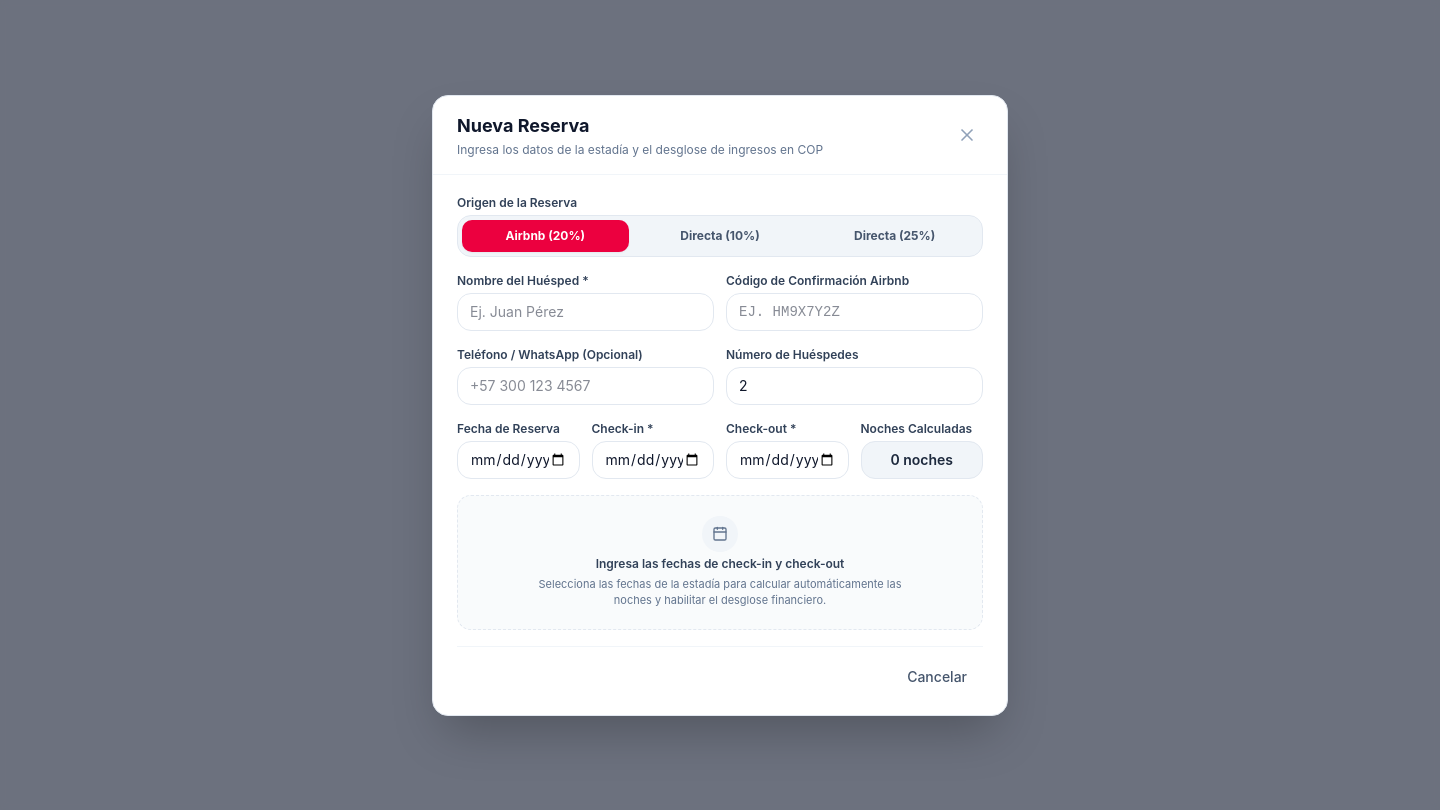
Test: BookingModal Component › switches to Direct 10% mode with 10% commission and $0 platform fee
Note: Fill dates to reveal breakdown
Type "2026-10-10" into the date field labelled "Check-in *" at x=653, y=460, box [592, 440, 714, 478]
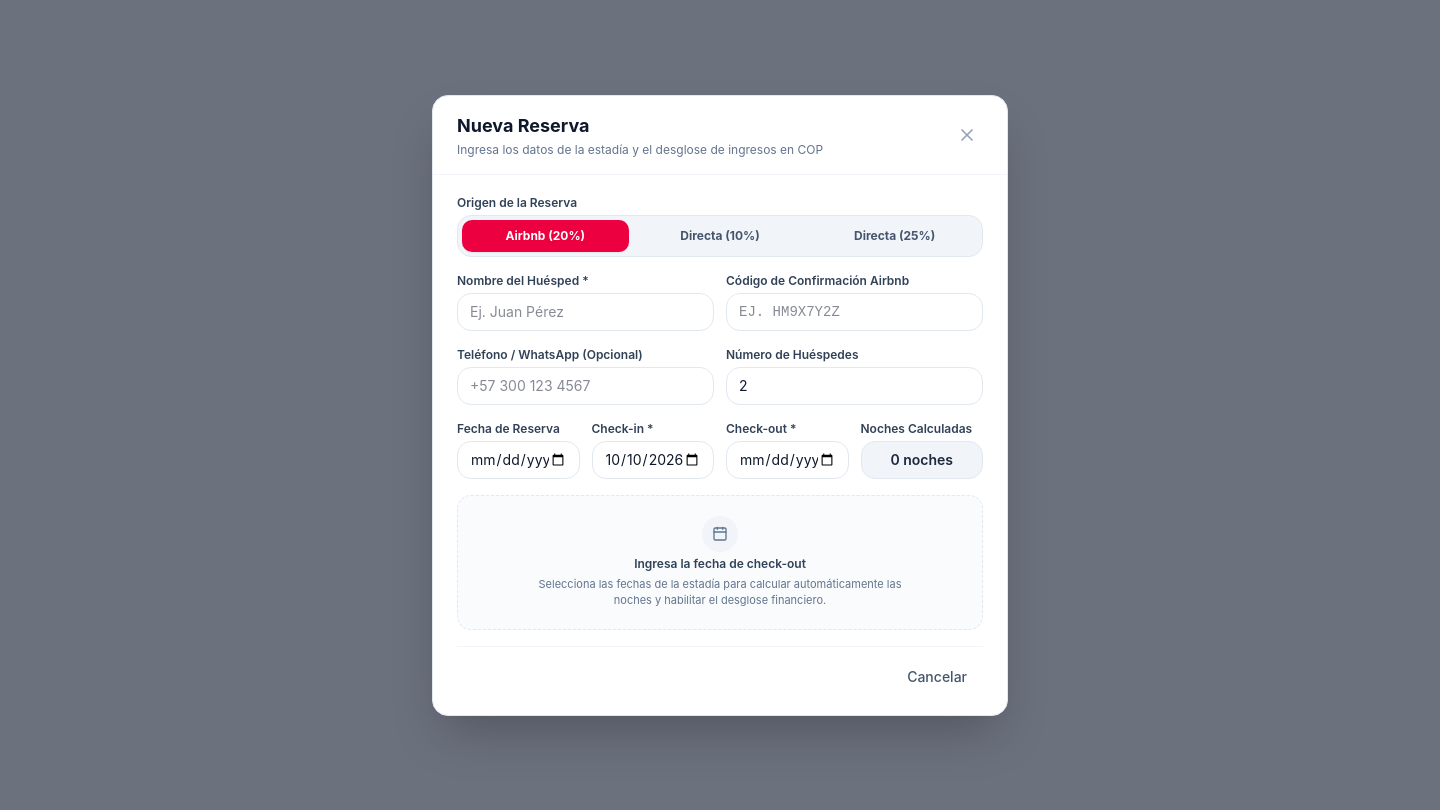
Type "2026-10-12" into the date field labelled "Check-out *" at x=787, y=460, box [726, 440, 848, 478]
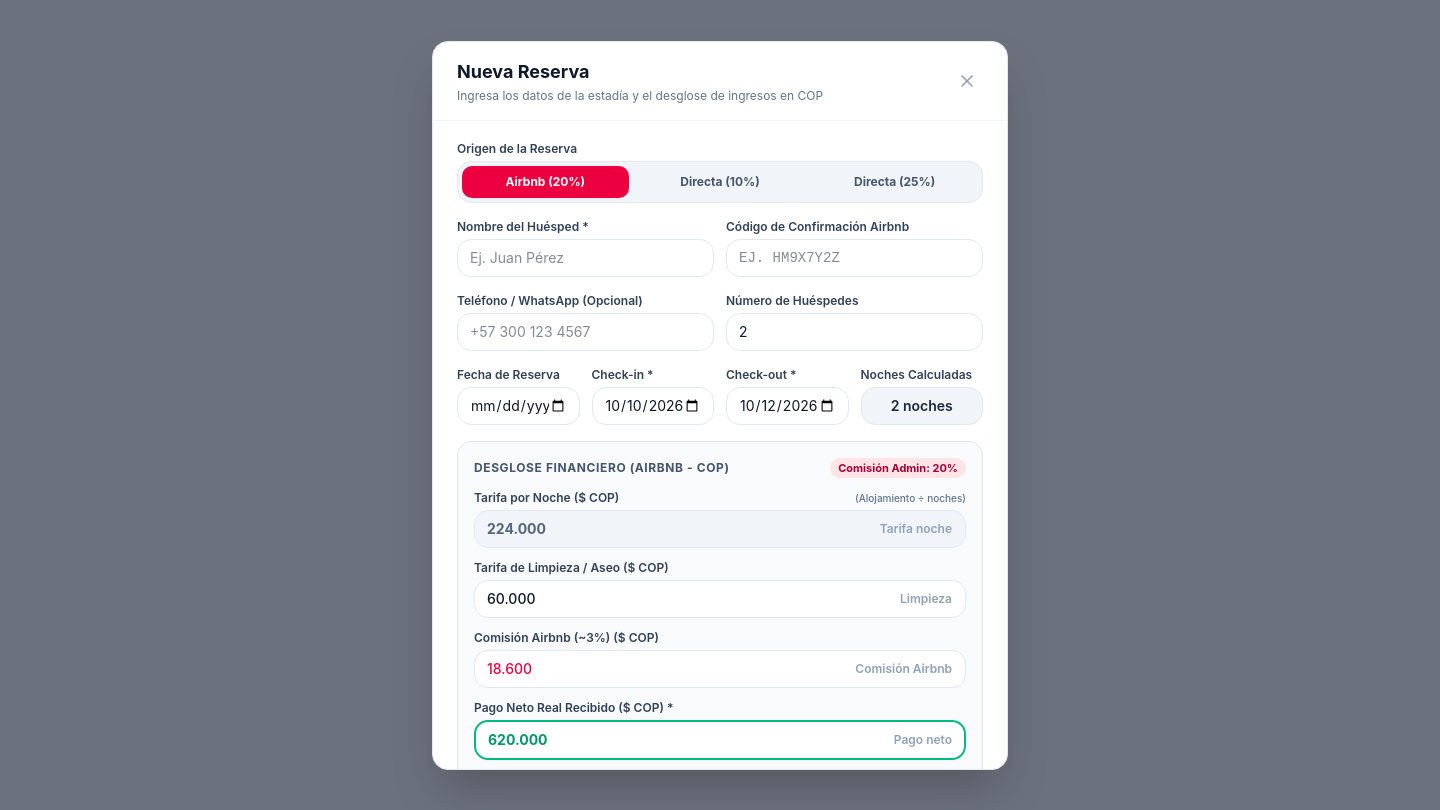
Click the button "Directa (10%)" at x=720, y=182, box [637, 166, 803, 198]
(page scrolled)
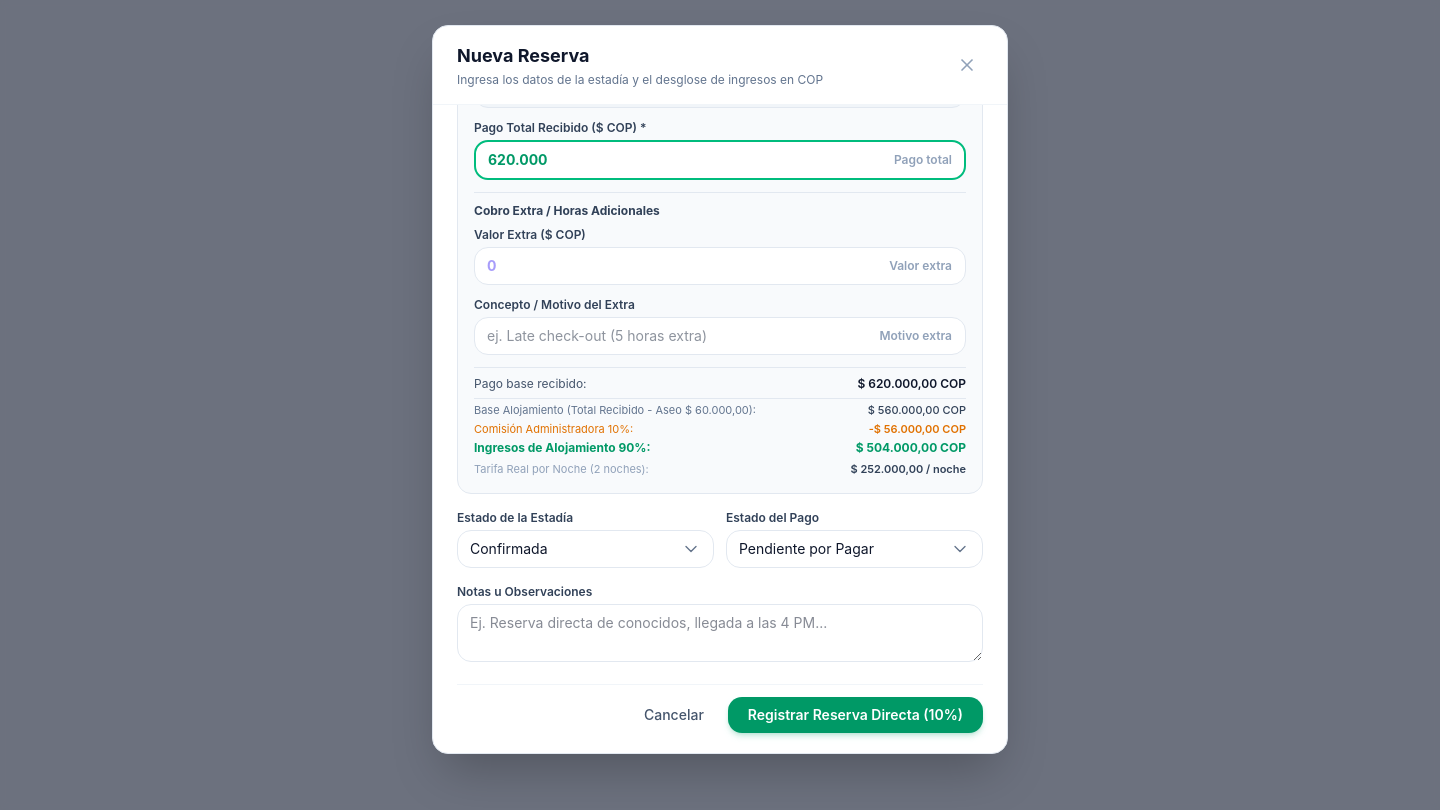
Result: the button "Registrar Reserva Directa (10%)" is shown at [728, 697, 983, 733]
